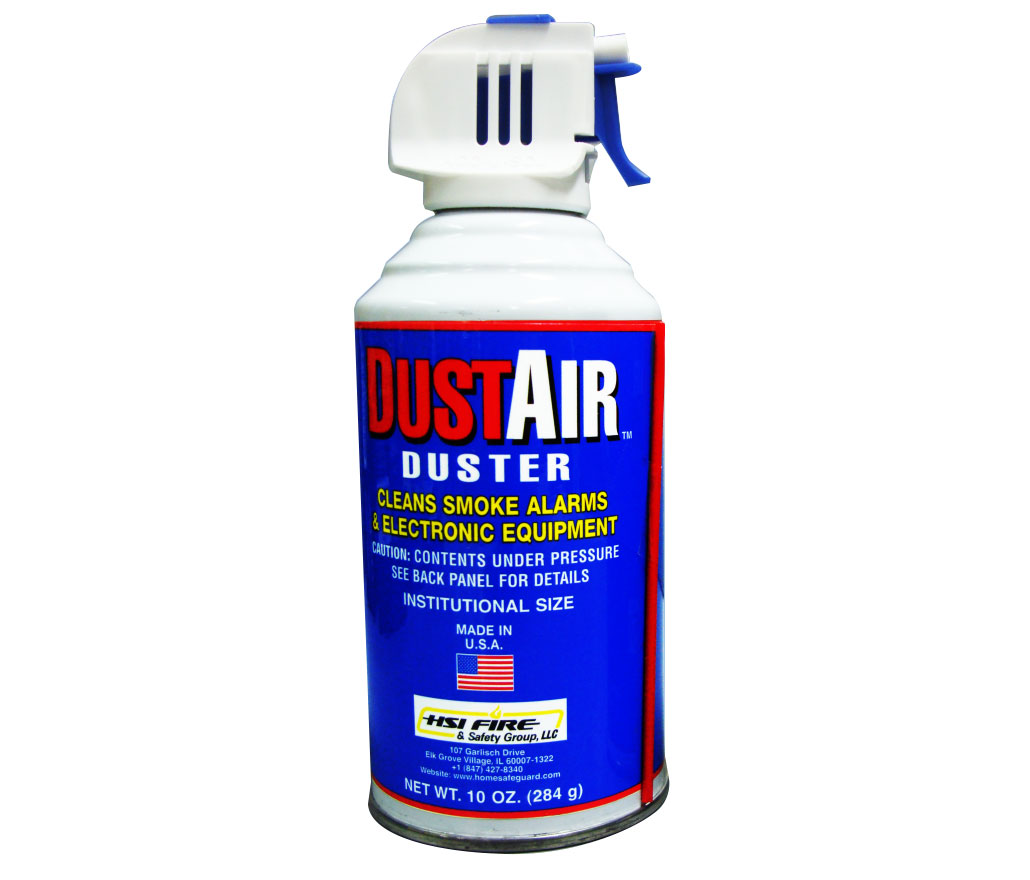Cleaning_solution: (337, 7, 685, 861)
